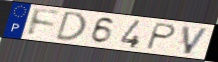4: (119, 19, 141, 50)
6: (89, 17, 116, 45)
D: (53, 10, 88, 42)
F: (26, 7, 62, 38)
P: (144, 22, 178, 51)
V: (181, 25, 211, 56)
